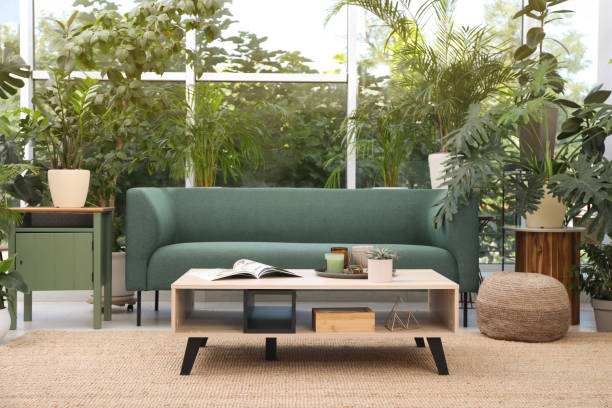large plant: (465, 52, 610, 228), (388, 29, 504, 190), (16, 70, 111, 209), (151, 86, 263, 185), (572, 238, 612, 335)
sofa: (121, 184, 480, 328)
table: (168, 265, 460, 380)
